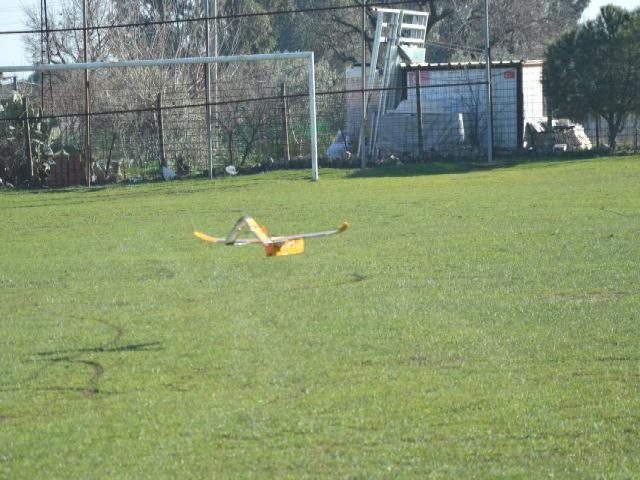iha: (184, 205, 357, 262)
